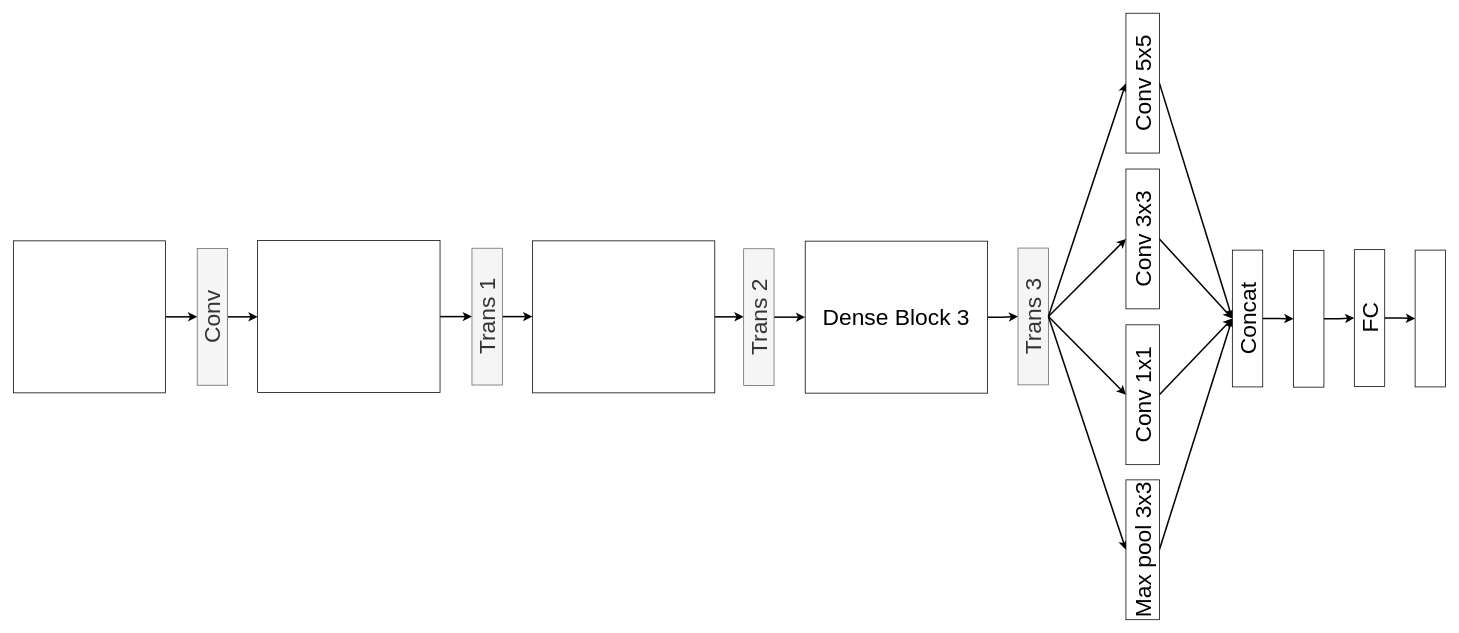
Some shapes in this 1459 by 633 pixel diagram are drawn without their labels. The shapes that lost their labels are listed below. From the top down, each one's centre as x and y in pixels, then its label:
point (89, 316): Input
point (348, 316): Dense Block 1
point (623, 316): Dense Block 2
point (1308, 318): GAP
point (1430, 318): Softmax
